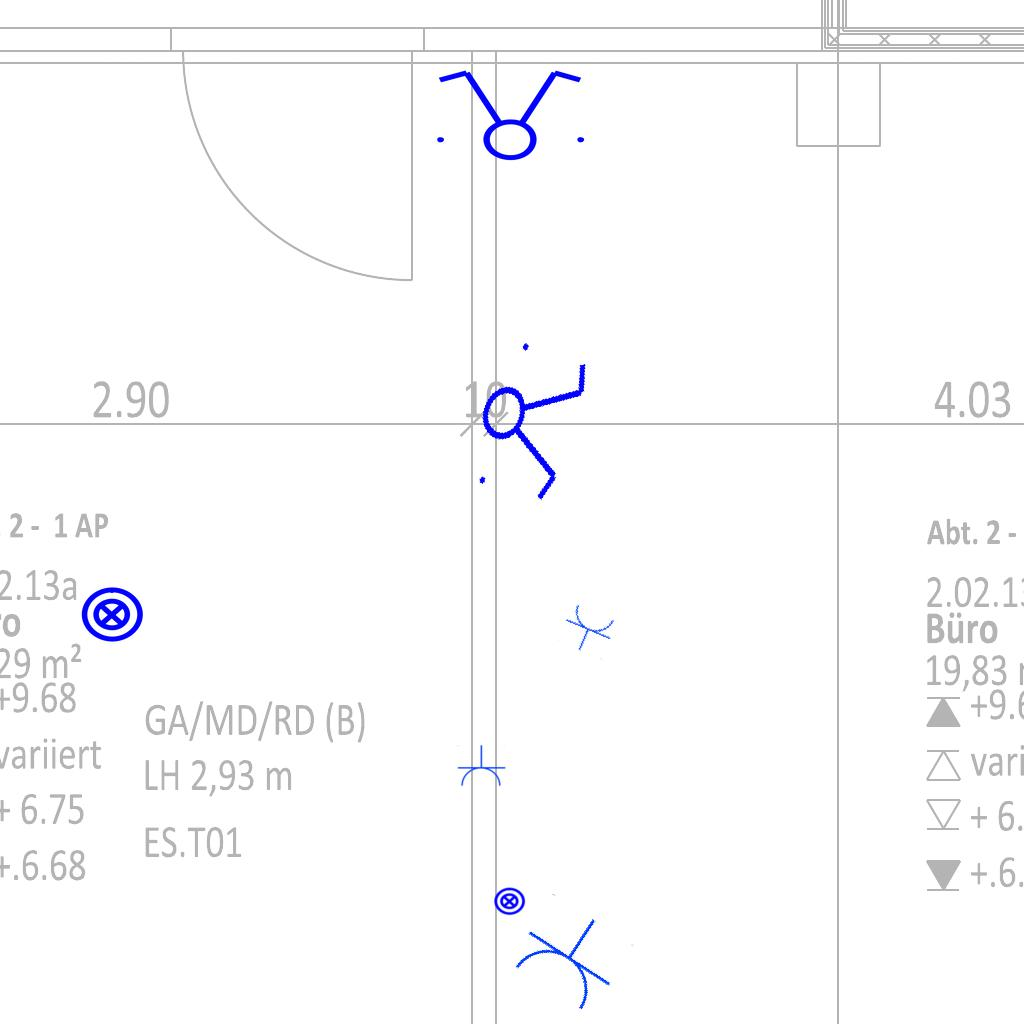Schukosteckdose_einfach: (504, 891, 636, 1020), (556, 600, 620, 661), (456, 745, 506, 788)
Serienschalter: (457, 325, 601, 515), (425, 66, 593, 162)
Taster_beleuchtet: (79, 582, 145, 648), (493, 885, 526, 918)
